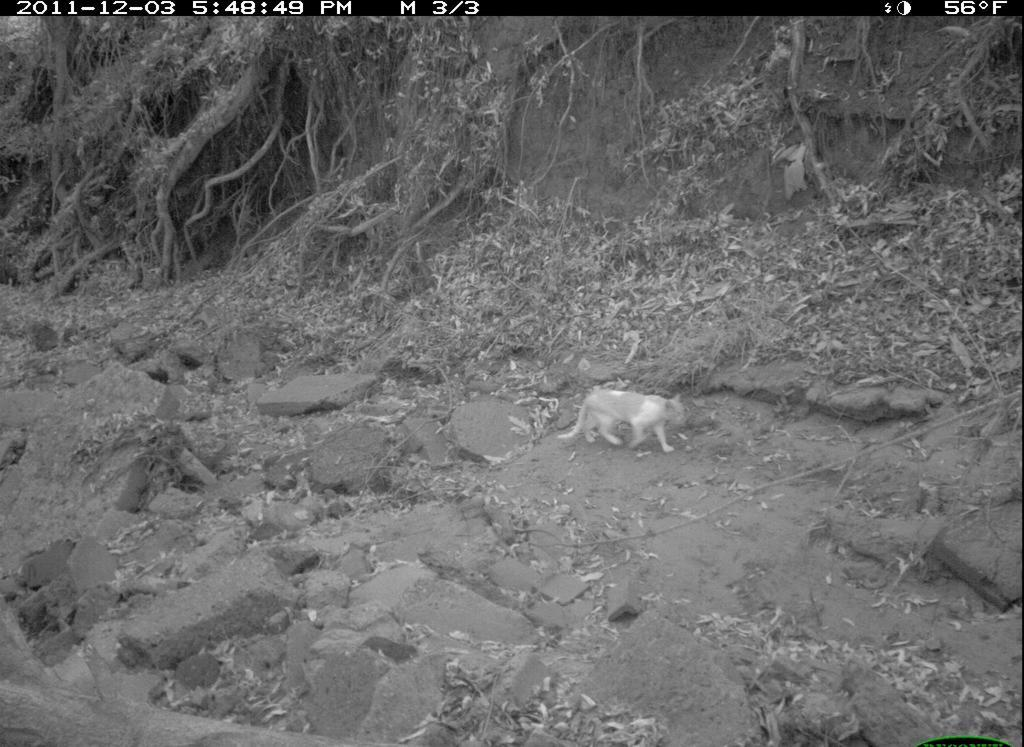cat: (561, 383, 696, 459)
